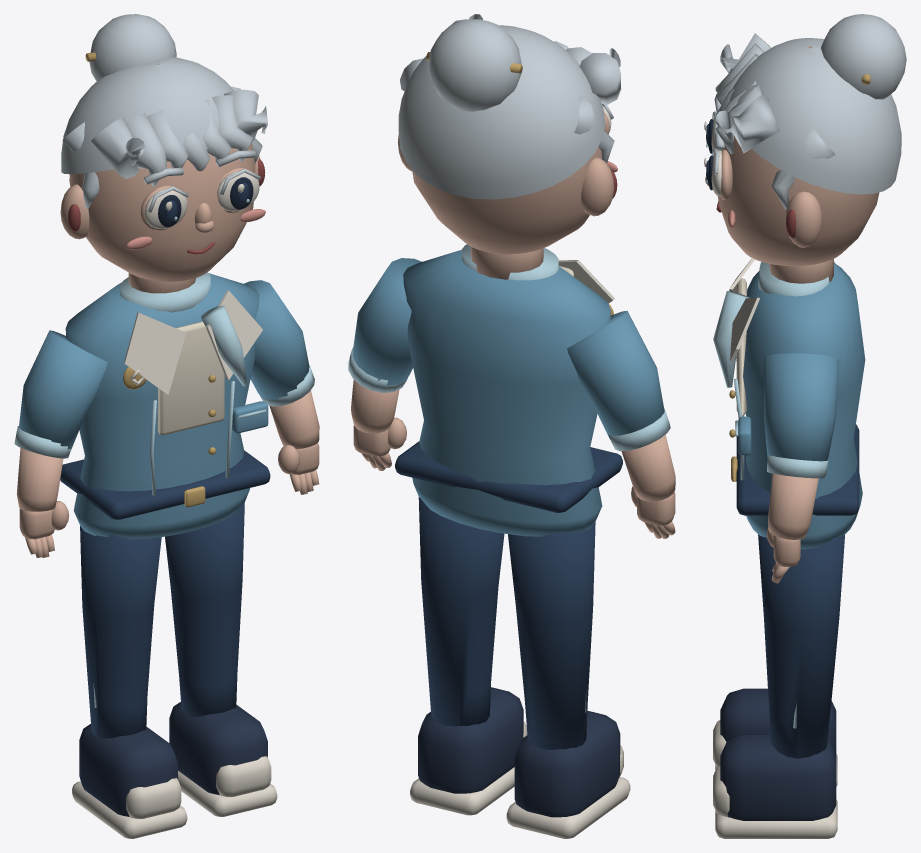
Rendered from elite_frost_warden.glb.
The picture shows the model from 3 angles, left to right: view 1: azimuth 30°, elevation 25°; view 2: azimuth 150°, elevation 25°; view 3: azimuth 270°, elevation 25°; orthographic projection. The views are drawn at different scales.
Parts seen in each view (by area): view 1: figure.016; view 2: figure.016; view 3: figure.016.
Boxes of the visible parts, x1,y1,x2,y2 form: figure.016: (14, 14, 319, 838); figure.016: (348, 14, 675, 838); figure.016: (704, 14, 906, 838).
Bounding box in the file's own units: 1.08 × 2.63 × 0.6142.
